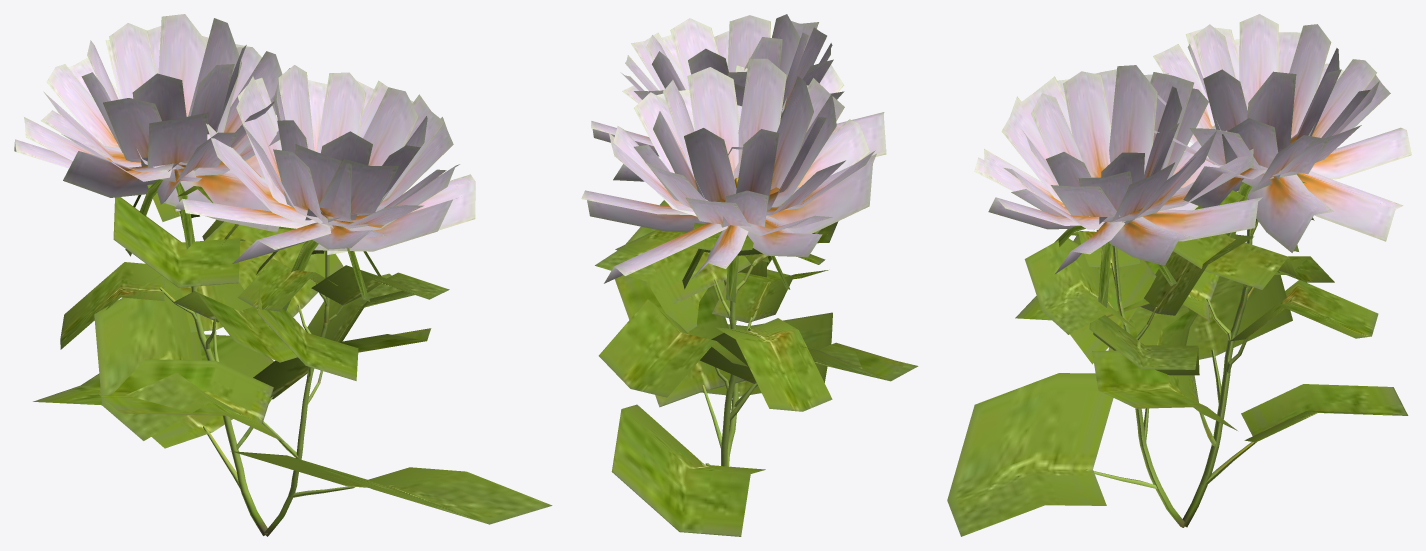
The model's file is white_flower1.FBX.
3 views of the same model, side by side, from view 1: azimuth 30°, elevation 25°; view 2: azimuth 150°, elevation 25°; view 3: azimuth 270°, elevation 25° (orthographic). The views are drawn at different scales.
Visible parts, largest first — view 1: White_Fl003; view 2: White_Fl003; view 3: White_Fl003.
Part boxes in pixels (bbox=[...]): White_Fl003: bbox=[14, 14, 552, 536]; White_Fl003: bbox=[581, 14, 918, 536]; White_Fl003: bbox=[947, 14, 1411, 536].
Bounding box in the file's own units: 0.3138 × 0.4069 × 0.371.
